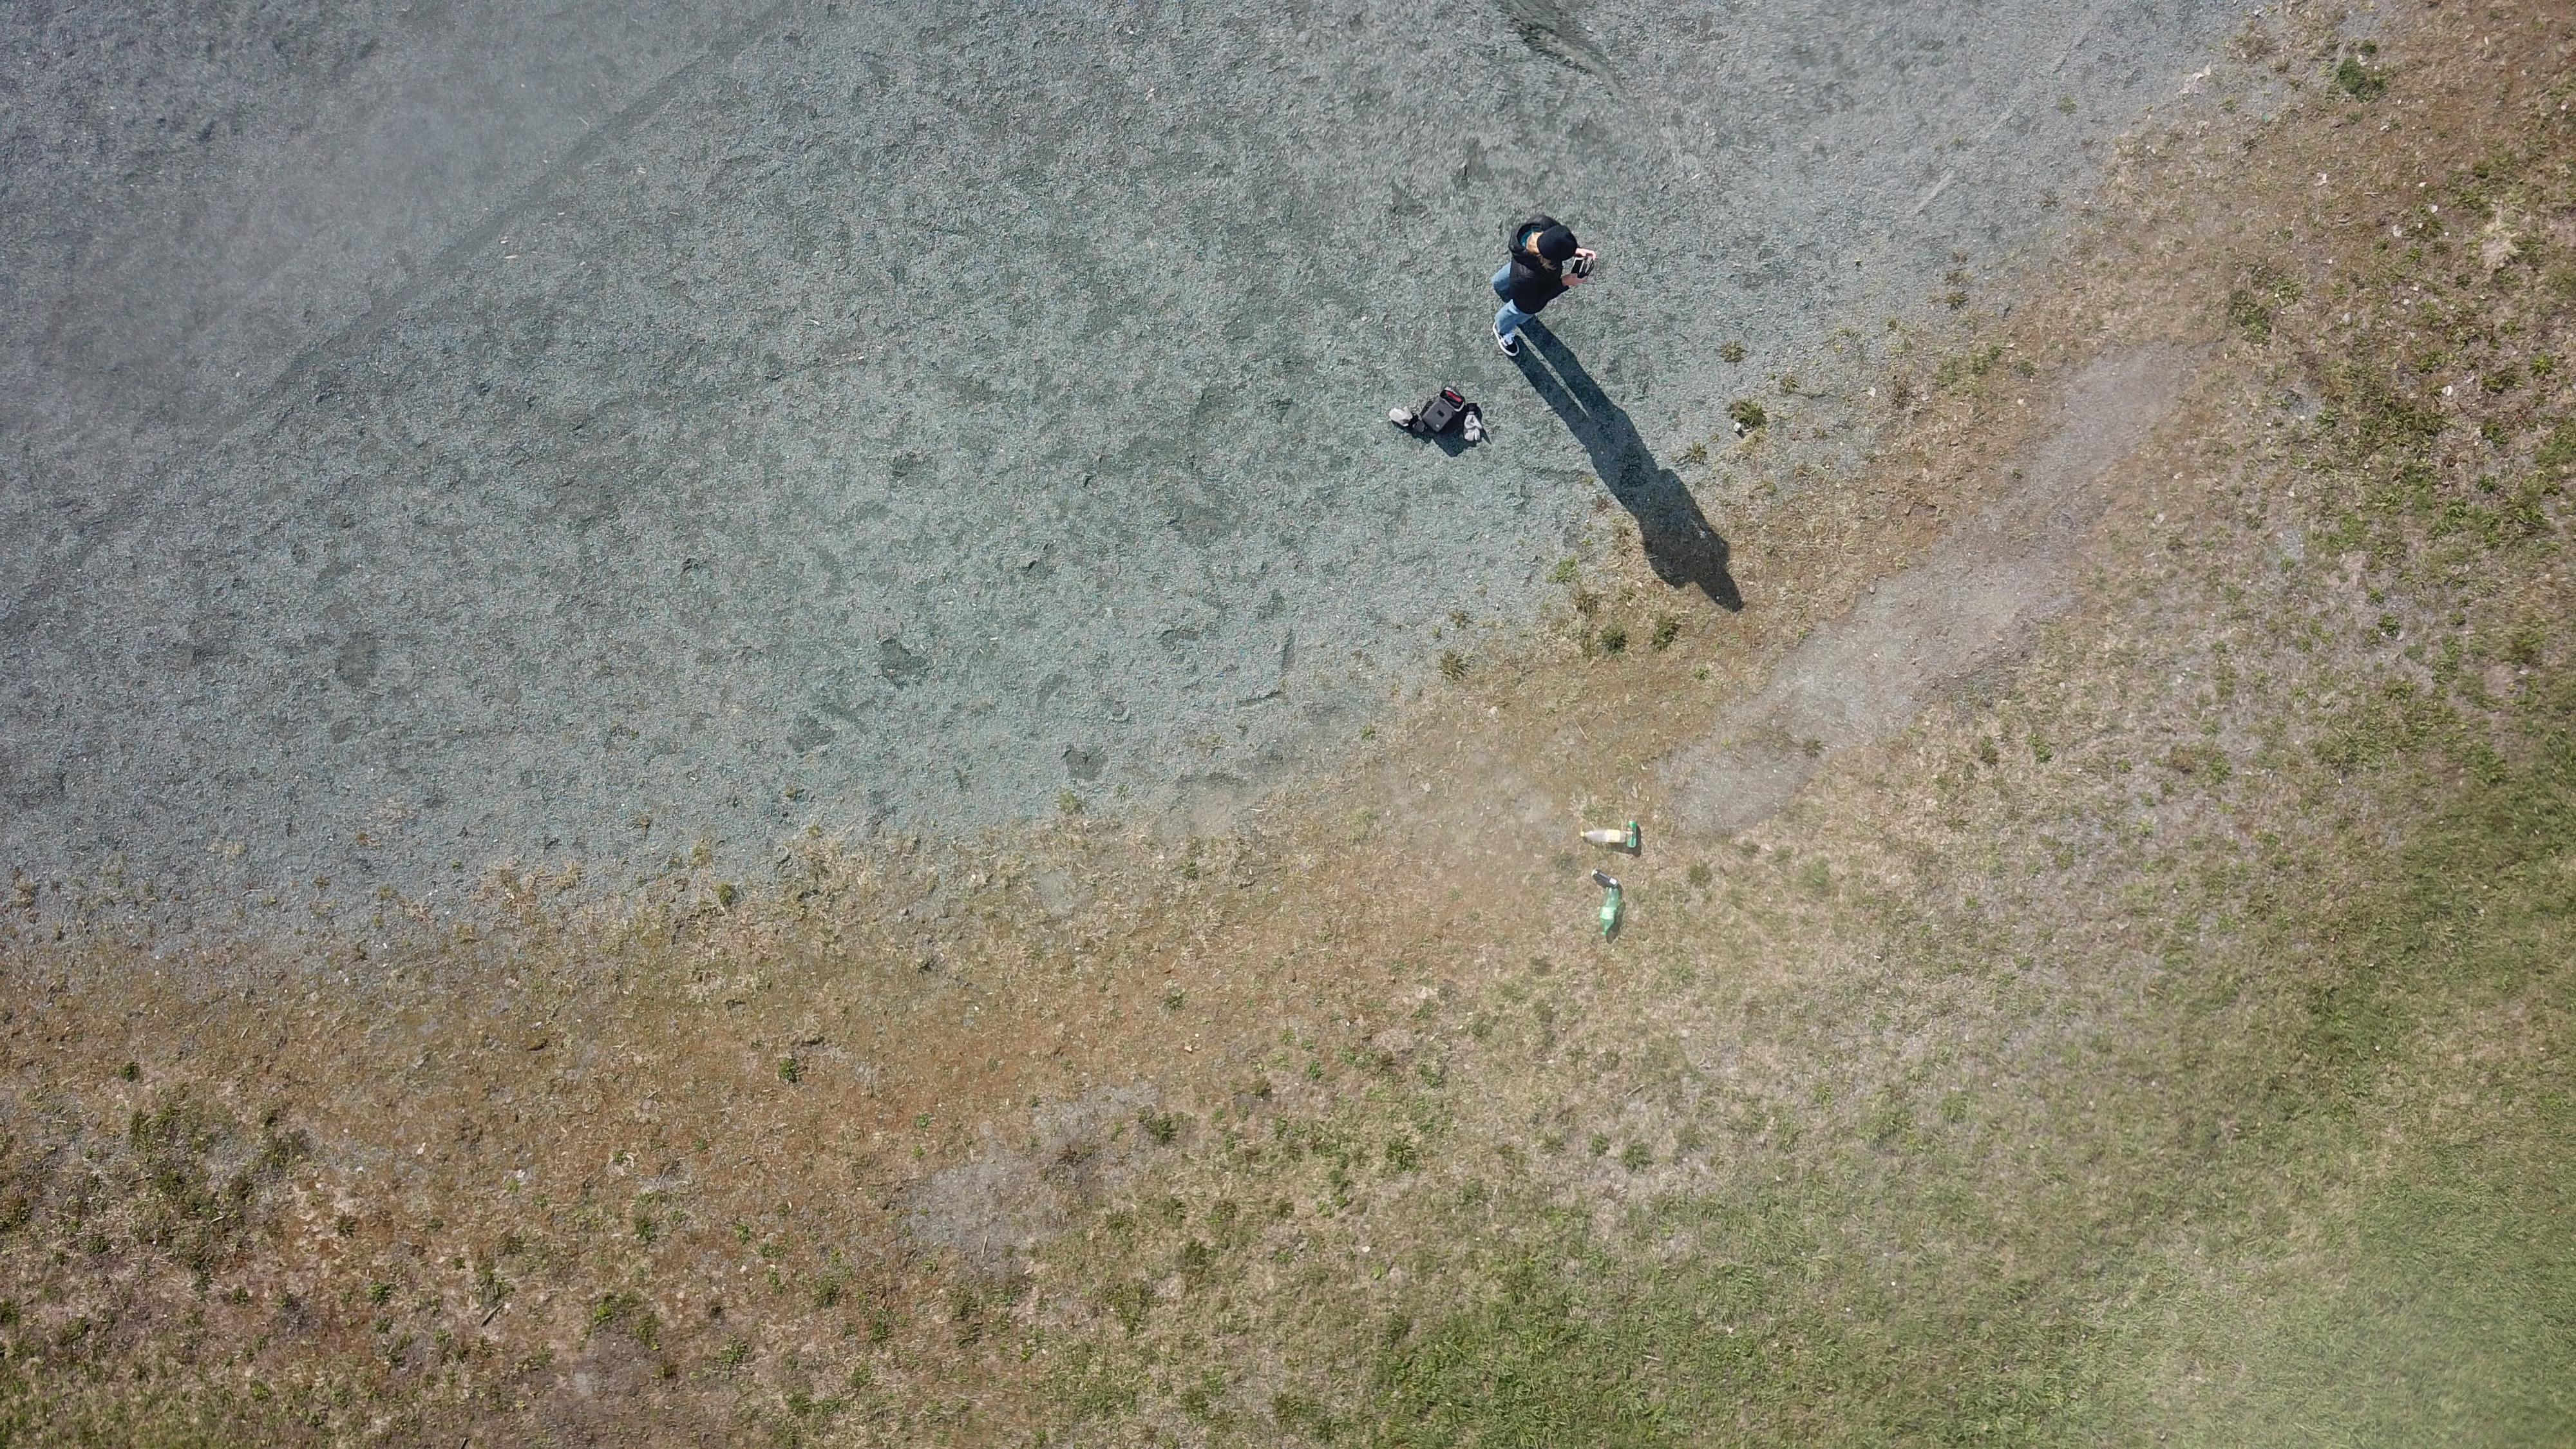Can: (1591, 867, 1622, 886), (1626, 819, 1638, 849)
PlasticBottle: (1598, 888, 1619, 938), (1580, 828, 1629, 846)
